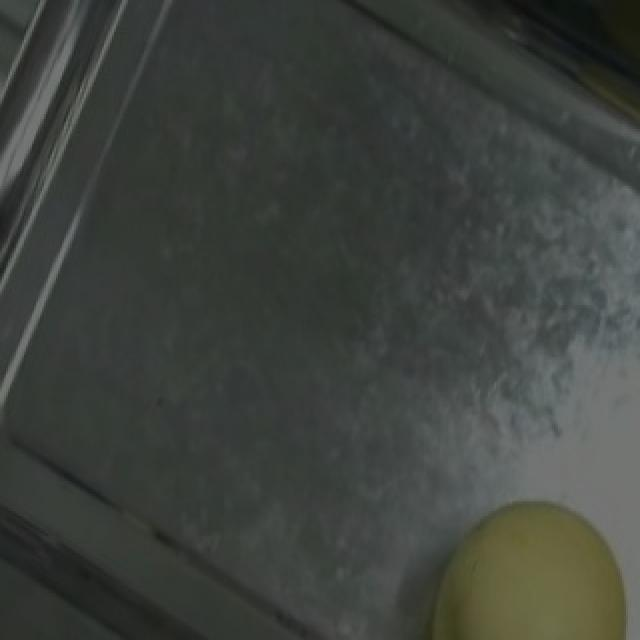Fruit: (406, 476, 640, 640)
